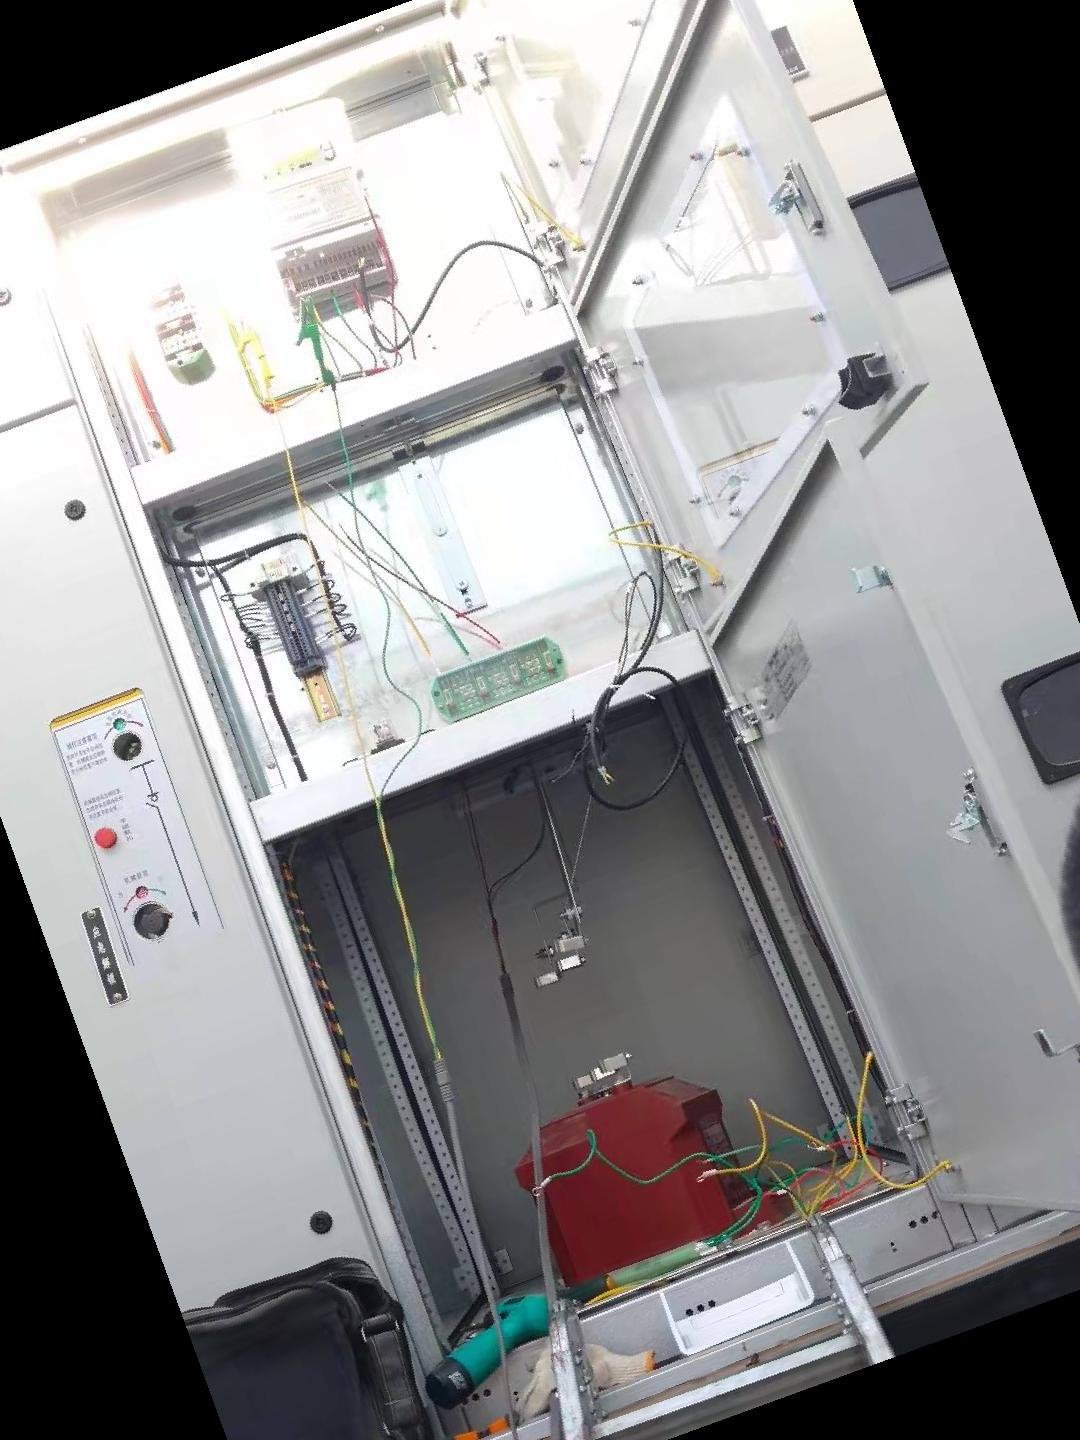digital: (227, 98, 378, 264)
